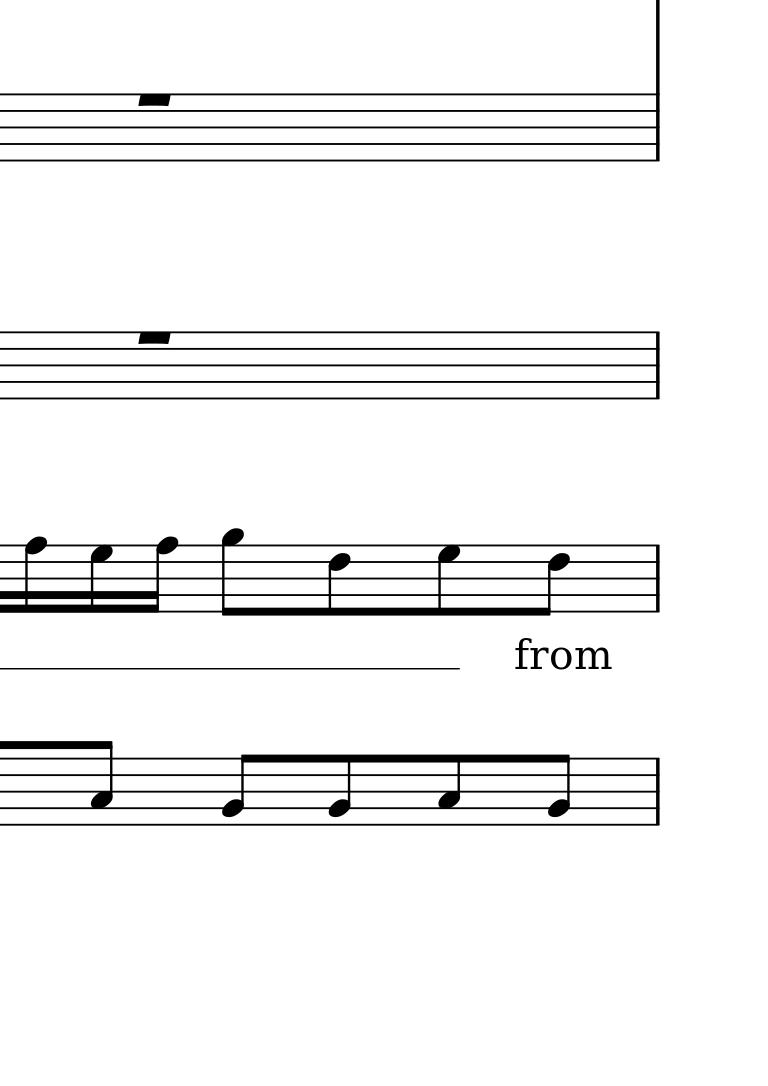16_7: (86, 540, 114, 617)
16_8: (143, 535, 178, 615), (21, 534, 47, 617)
8_2: (220, 753, 254, 828), (326, 753, 353, 828), (546, 752, 573, 827)
8_3: (88, 739, 115, 828), (436, 752, 463, 828)
8_6: (535, 542, 571, 618), (326, 543, 351, 619)
8_7: (434, 543, 462, 618)
8_9: (220, 527, 245, 619)
Rests1: (134, 328, 175, 348), (133, 91, 175, 110)
Single_barline: (648, 94, 666, 161), (648, 332, 666, 399), (649, 545, 666, 611), (649, 759, 666, 825)
